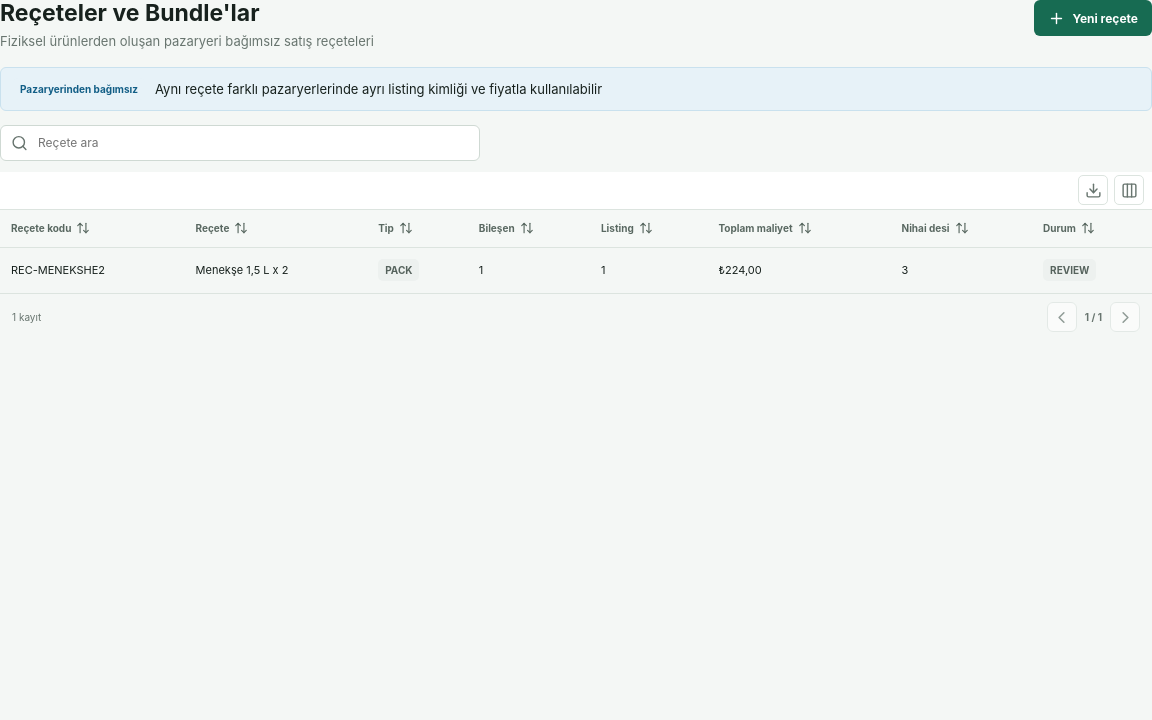
Scenario: Merkezi PIM ekranları › reçete drawerında bileşen ve pazaryeri listingini ayırır
Click the text "REC-MENEKSHE2": (92, 270) [0,248,185,293]
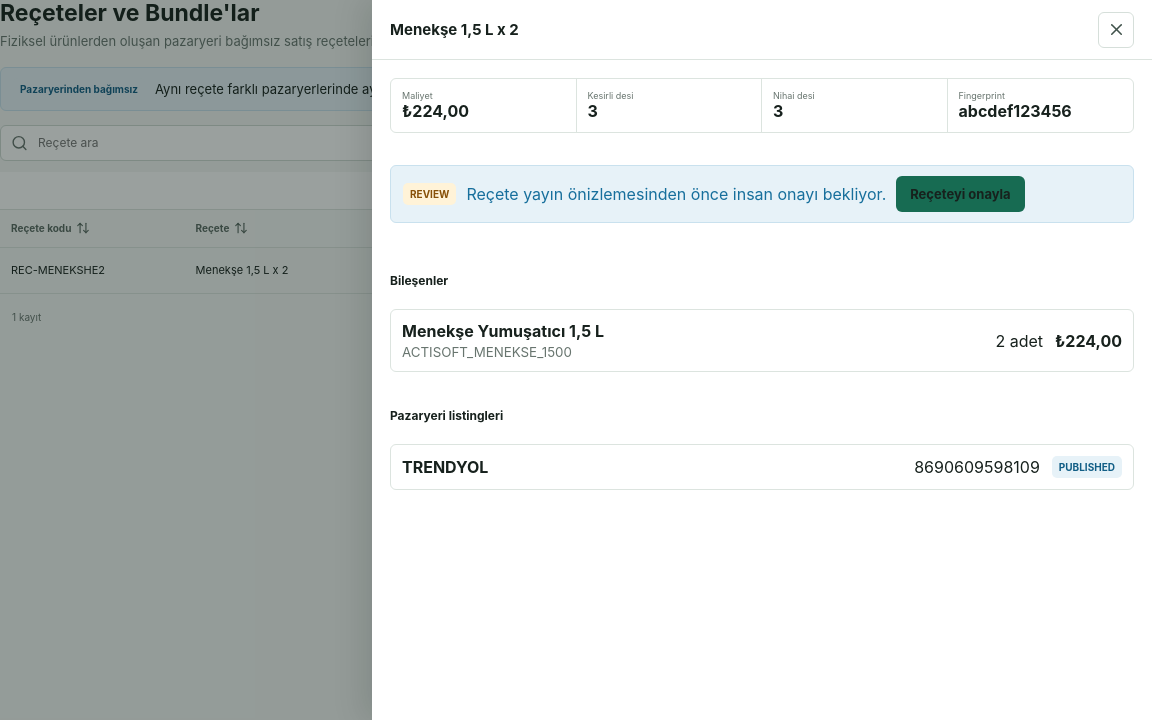
Expected: the heading "Bileşenler" is shown, [390,273,448,288]
Expected: the text "8690609598109" is shown, [914,457,1040,477]
